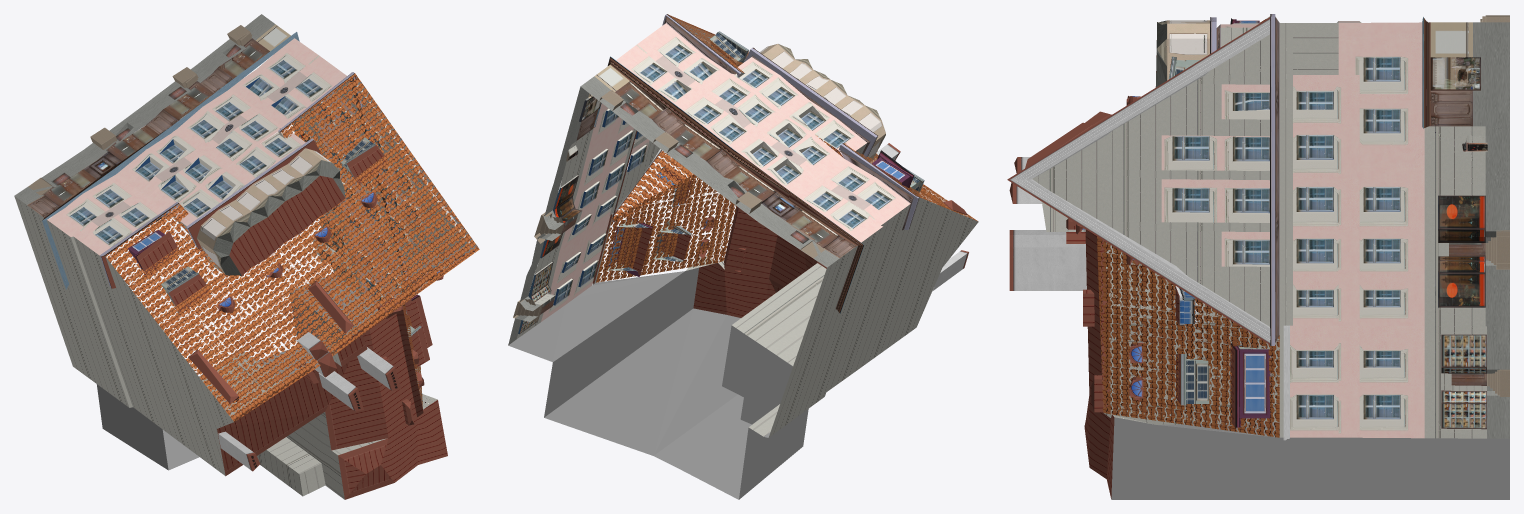
The model's file is 8c-origo.obj.
The picture shows the model from 3 angles, left to right: view 1: azimuth 30°, elevation 25°; view 2: azimuth 150°, elevation 25°; view 3: azimuth 270°, elevation 25°; orthographic projection. The views are drawn at different scales.
Parts seen in each view (by area): view 1: 8c; view 2: 8c; view 3: 8c.
Boxes of the visible parts, x1=… form: 8c: x1=14, y1=14, x2=479, y2=499; 8c: x1=508, y1=14, x2=978, y2=499; 8c: x1=1007, y1=14, x2=1509, y2=499.
Size of the model in its own units: 29.62 by 33 by 29.63.
